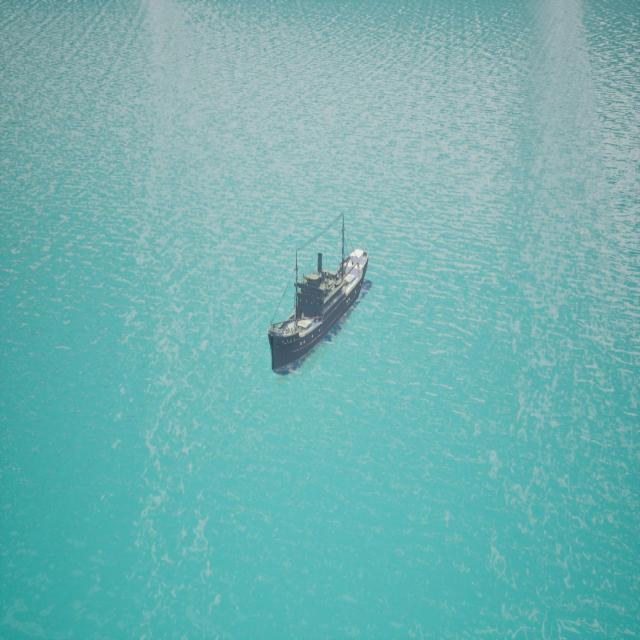fishing ship: (268, 247, 371, 376)
